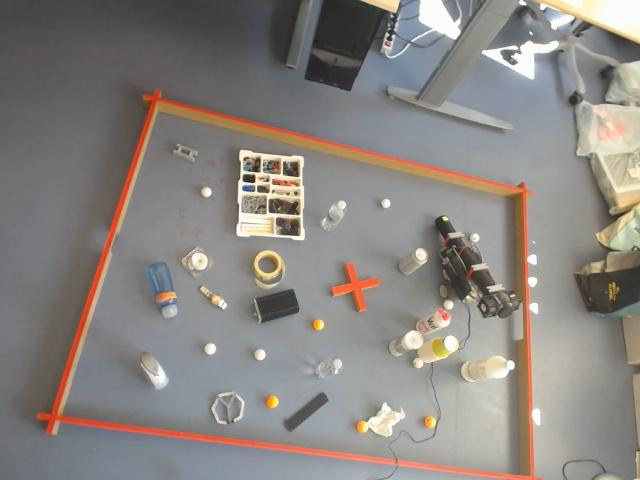orange: (264, 394, 280, 409), (312, 318, 325, 331), (425, 416, 436, 427), (358, 421, 368, 432)
robot: (435, 215, 521, 320)
robot-front: (436, 216, 454, 235)
white: (202, 342, 218, 358), (198, 186, 214, 200), (252, 348, 268, 362), (444, 298, 454, 311), (413, 358, 423, 368), (382, 198, 391, 208), (470, 233, 480, 242)
